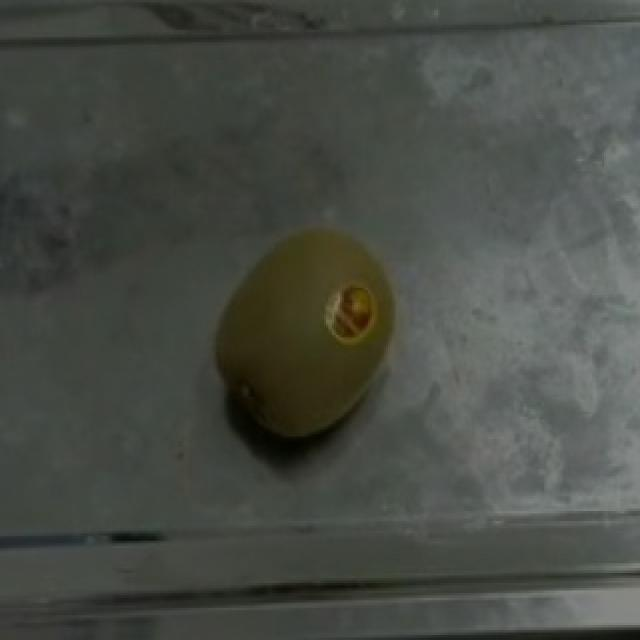Fruit: (202, 211, 394, 446)
